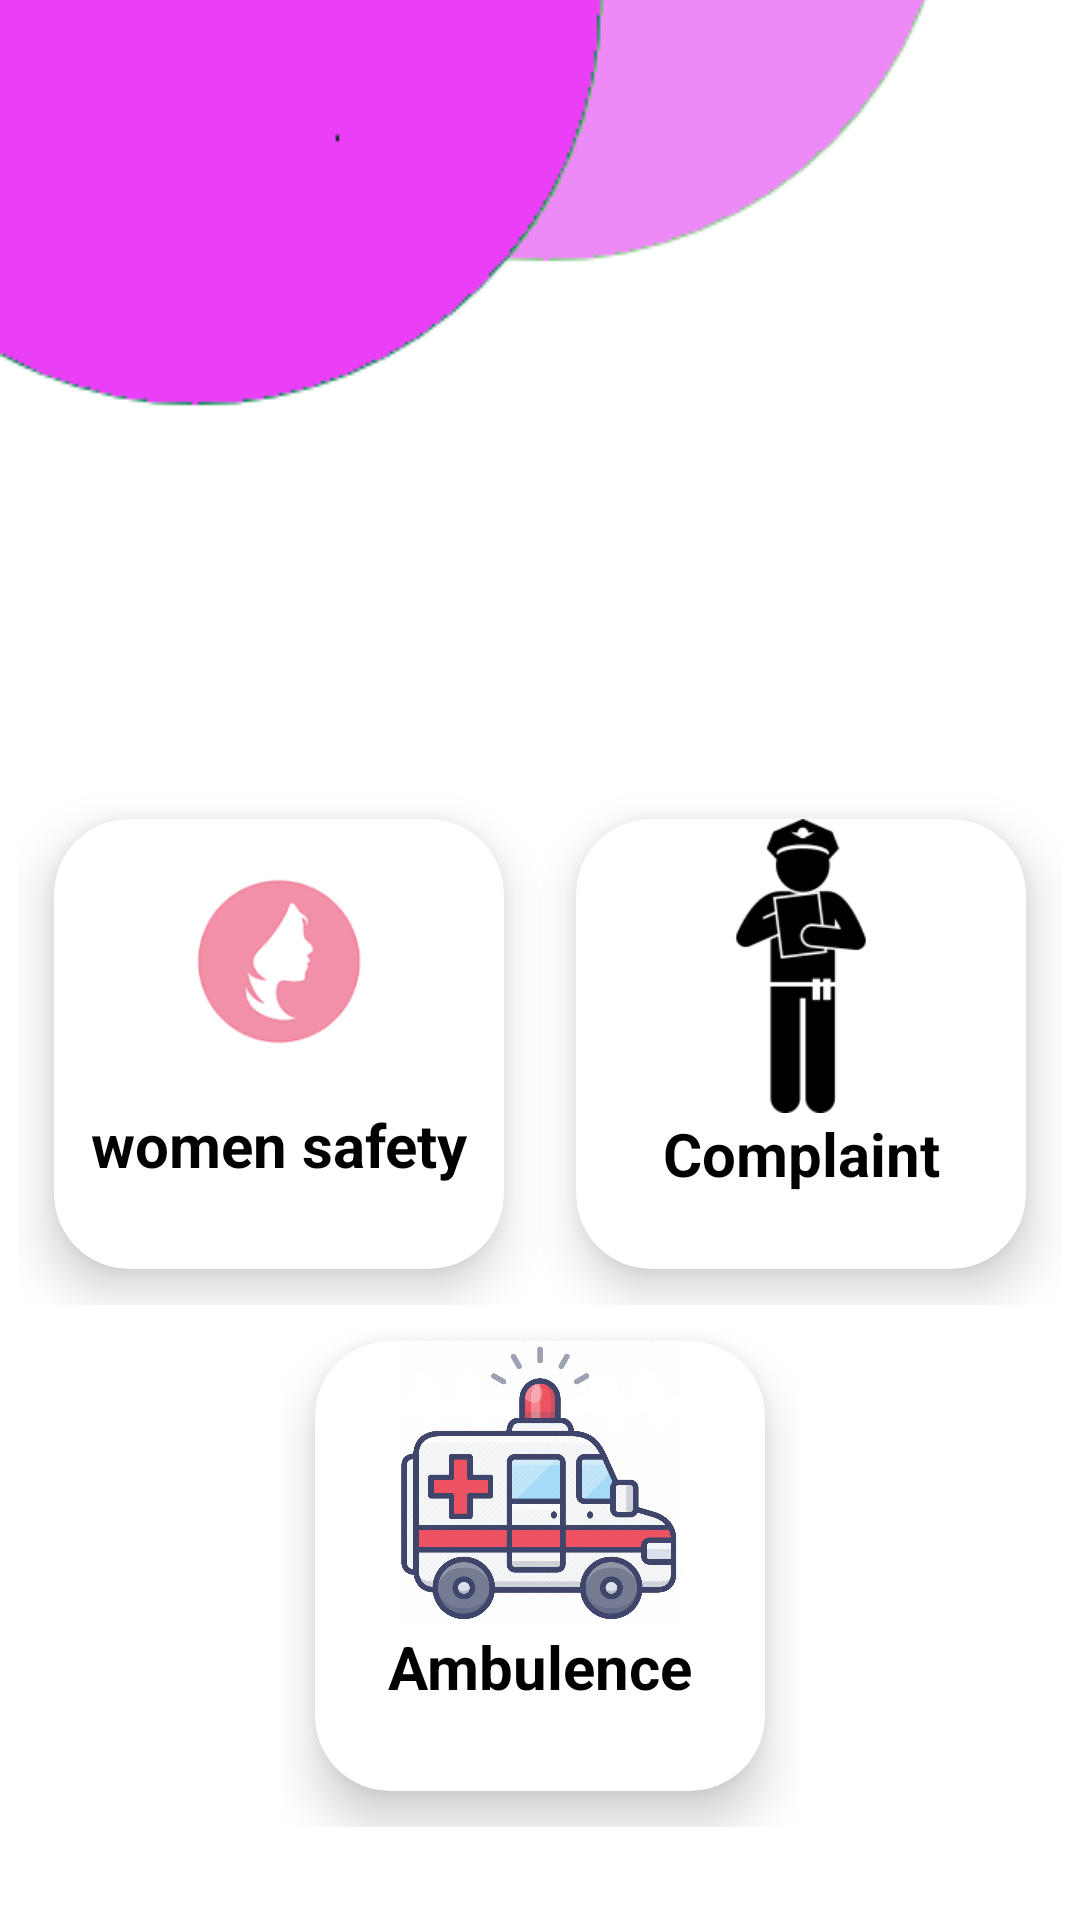

Named icons in this screenshot (1080×1920) and their centers, (x=x, y=y):
police report: (x=801, y=966)
